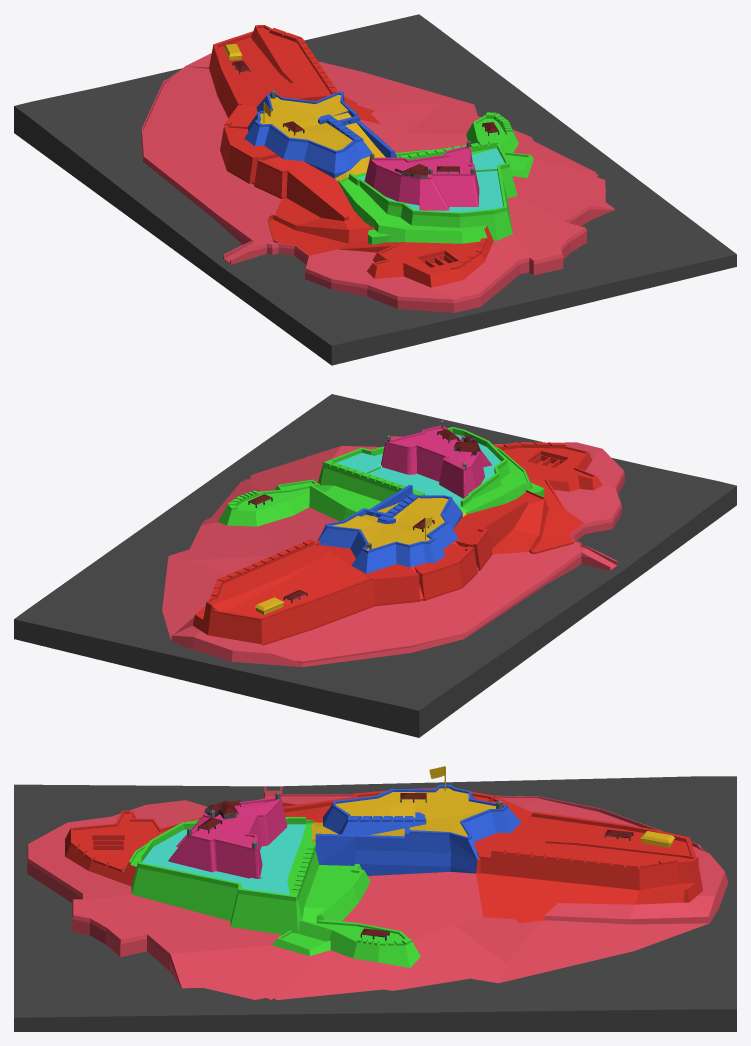
Rendered from Castillo San Felipe.fbx.
3 views of the same model, one above another, from view 1: azimuth 30°, elevation 25°; view 2: azimuth 150°, elevation 25°; view 3: azimuth 270°, elevation 25° (orthographic). The views are drawn at different scales.
Parts seen in each view (by area): view 1: Base, Cube.001, Cube.011, Cube.009, Superior, Cube.003, Cube.002, Cube.005; view 2: Base, Cube.001, Cube.011, Cube.009, Cube.003, Superior, Cube.002, Cube.005; view 3: Base, Cube.001, Cube.011, Cube.009, Cube.003, Superior, Cube.002, Cube.005, Cube.006, Caseta grande.
Boxes of the visible parts, left/top/right/bottom form: Base: left=14, top=14, right=736, bottom=365; Cube.001: left=141, top=53, right=614, bottom=312; Cube.011: left=209, top=25, right=493, bottom=287; Cube.009: left=338, top=112, right=533, bottom=244; Superior: left=364, top=146, right=479, bottom=210; Cube.003: left=244, top=91, right=397, bottom=178; Cube.002: left=259, top=95, right=385, bottom=181; Cube.005: left=357, top=170, right=503, bottom=212; Base: left=14, top=394, right=736, bottom=737; Cube.001: left=162, top=436, right=624, bottom=666; Cube.011: left=193, top=442, right=602, bottom=645; Cube.009: left=218, top=427, right=544, bottom=526; Cube.003: left=317, top=484, right=462, bottom=573; Superior: left=381, top=425, right=491, bottom=498; Cube.002: left=331, top=497, right=466, bottom=549; Cube.005: left=368, top=434, right=500, bottom=505; Base: left=14, top=776, right=736, bottom=1031; Cube.001: left=27, top=786, right=728, bottom=1000; Cube.011: left=65, top=787, right=702, bottom=923; Cube.009: left=124, top=817, right=420, bottom=967; Cube.003: left=315, top=784, right=521, bottom=875; Superior: left=168, top=798, right=287, bottom=878; Cube.002: left=311, top=766, right=495, bottom=842; Cube.005: left=141, top=824, right=305, bottom=886; Cube.006: left=241, top=877, right=289, bottom=894; Caseta grande: left=204, top=800, right=240, bottom=819.
Bounding box in the file's own units: 250 × 56.3 × 340.
